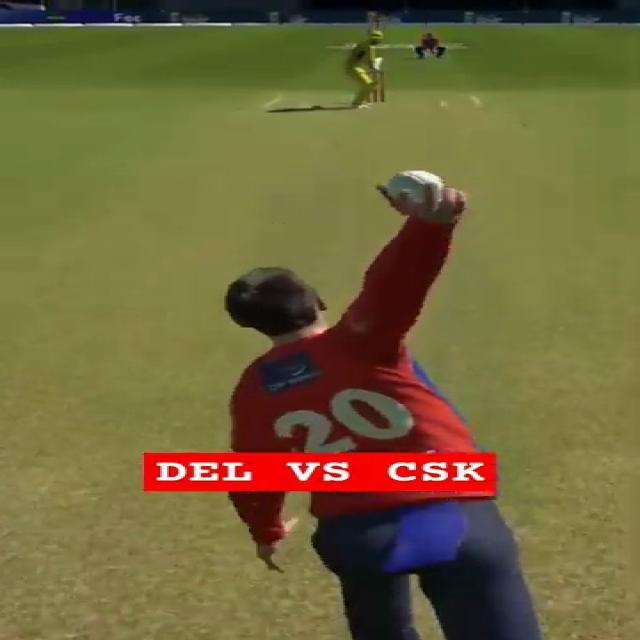ball: (379, 170, 443, 202)
